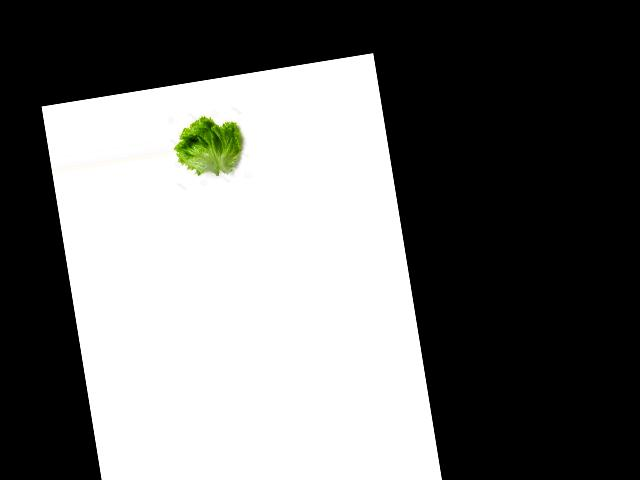lettuce: (168, 112, 252, 183)
